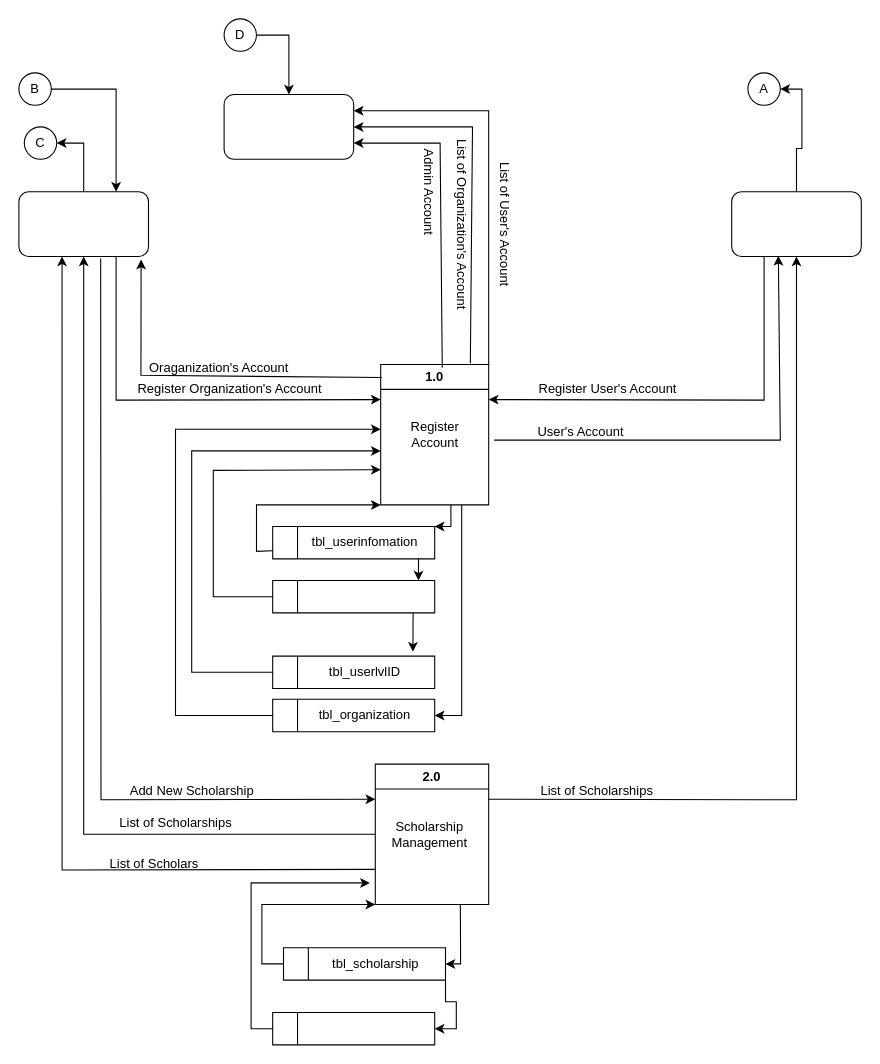
Some shapes in this 880 by 1064 pixel diagram are drawn without their labels. Each missing label, with the centre of its shape:
Admin: pixel 288 126
Organization: pixel 83 223
tbl_scholars: pixel 353 1028
tbl_users: pixel 353 596
User: pixel 796 223
